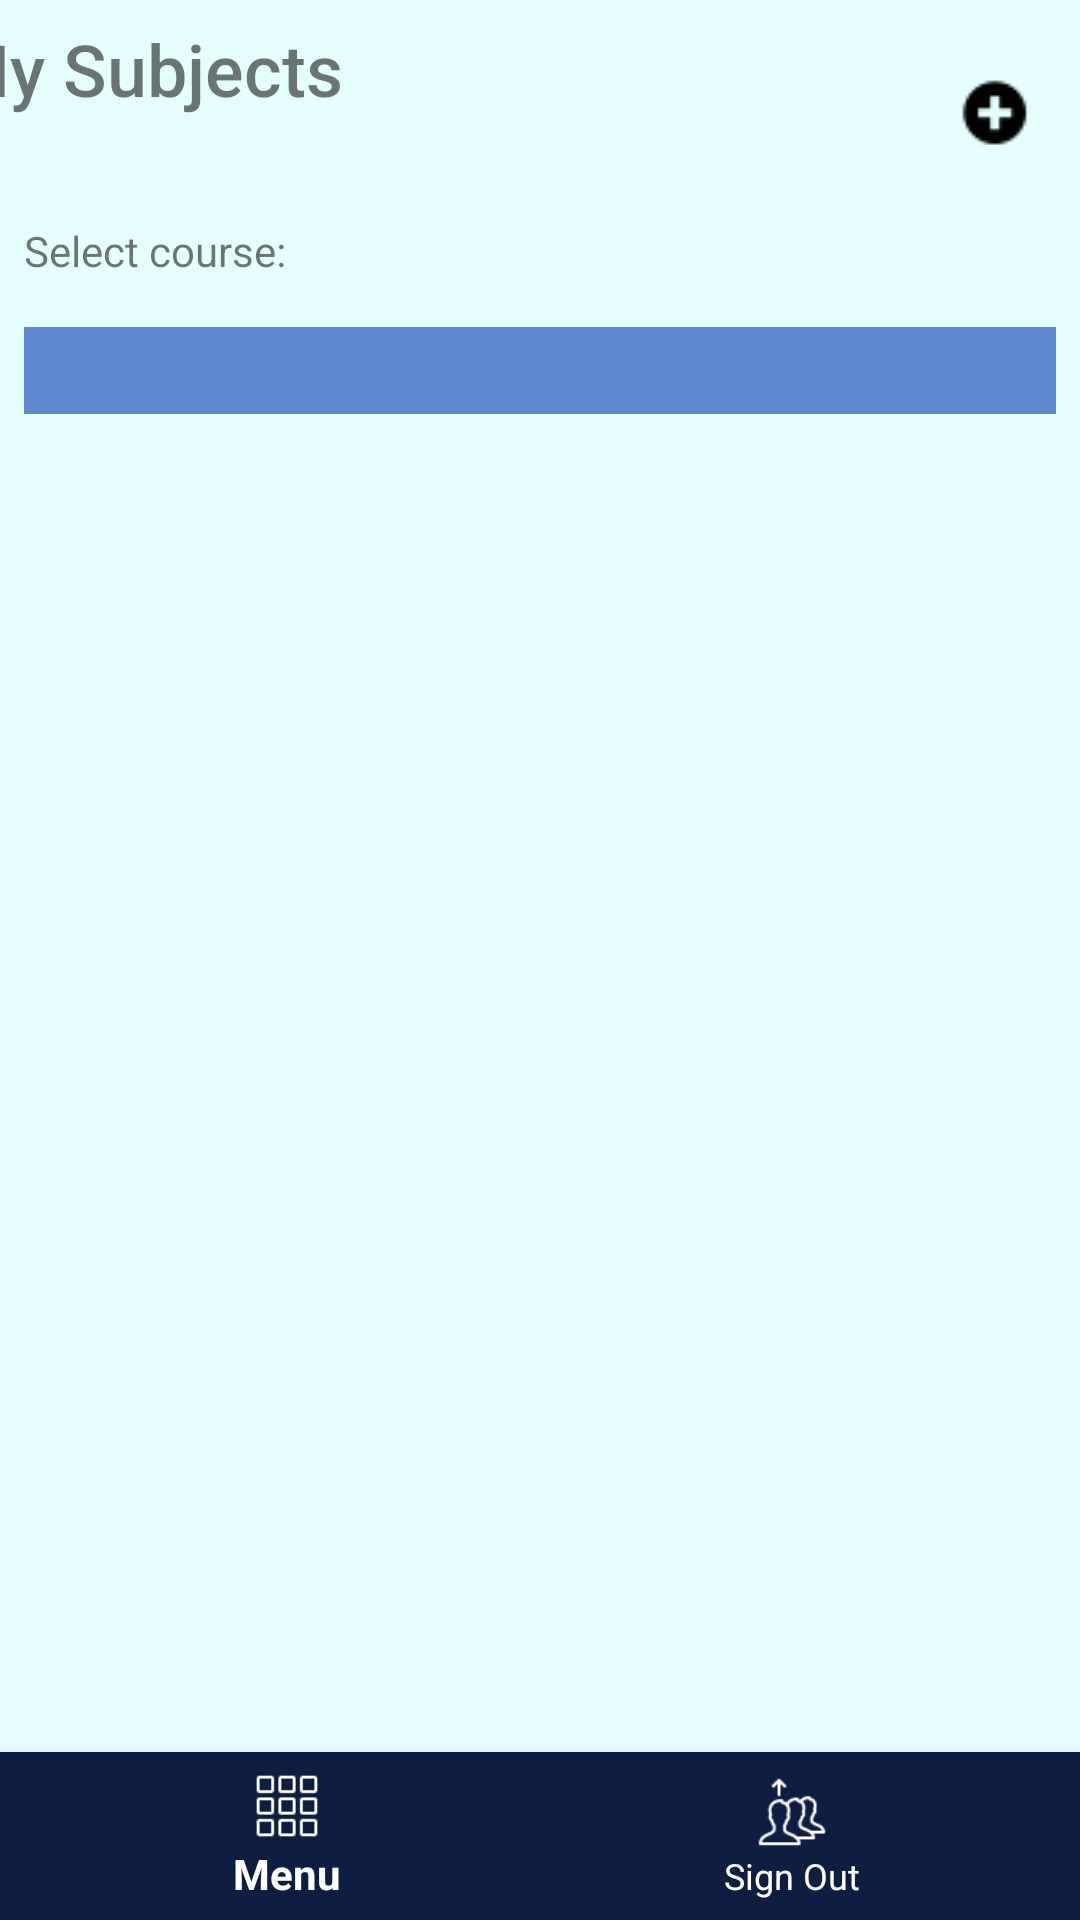

Icon click points for this 1080×1920 phone screenshot, format (x,y):
add: (994,112)
